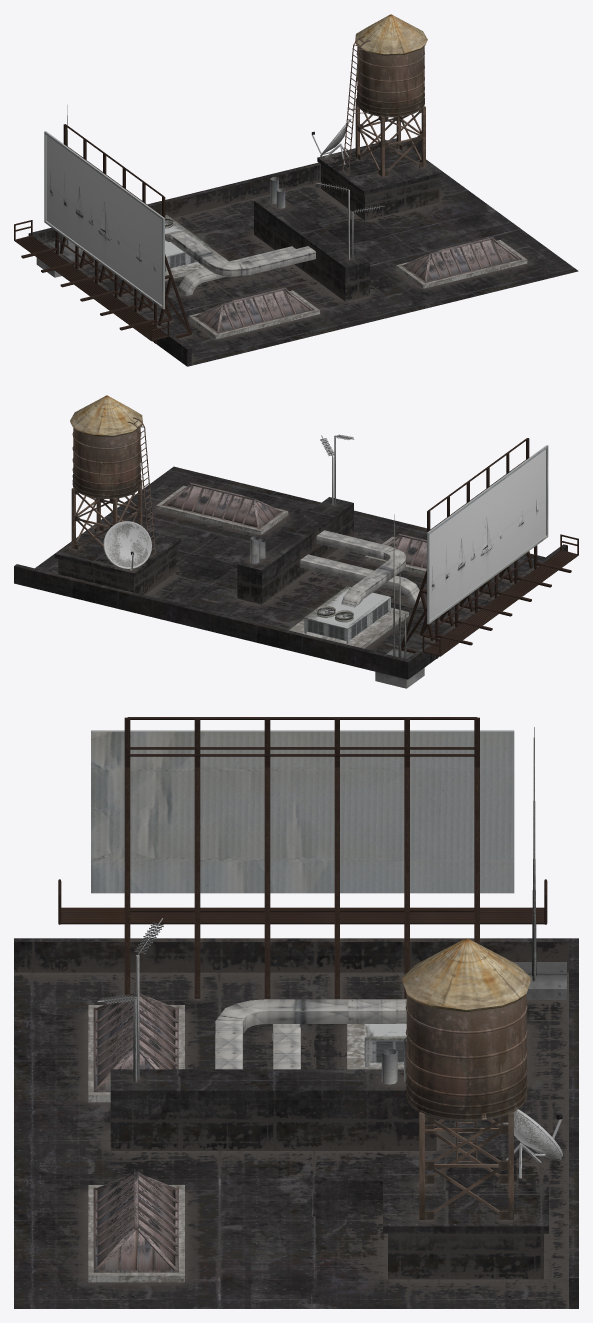
File: roof06.fbx
The picture shows the model from 3 angles, top to bottom: view 1: azimuth 30°, elevation 25°; view 2: azimuth 150°, elevation 25°; view 3: azimuth 270°, elevation 25°; orthographic projection. The views are drawn at different scales.
Parts seen in each view (by area): view 1: Object31, Plane52, Box157, Box158, Circle01, Rectangle59, Box1944, Box1560, Spindle01, O03, Object313, Circle02 (+8 smaller); view 2: Object31, Plane52, Box158, Box157, Circle01, Rectangle59, Box1944, Spindle01, Sphere56, O03, Ob98, Box159 (+17 smaller); view 3: Object31, O03, Box158, Box157, Circle01, Rectangle59, Spindle01, Box1944, Box1560, Object313, Circle02, Box160 (+14 smaller).
Boxes of the visible parts, <box> form: Object31: <box>28,138,578,366</box>; Plane52: <box>46,135,162,304</box>; Box157: <box>317,138,443,220</box>; Box158: <box>254,197,369,301</box>; Circle01: <box>357,46,424,115</box>; Rectangle59: <box>14,124,169,341</box>; Box1944: <box>405,240,516,281</box>; Box1560: <box>197,290,308,331</box>; Spindle01: <box>355,14,427,55</box>; O03: <box>44,131,164,309</box>; Object313: <box>186,243,264,276</box>; Circle02: <box>356,51,424,117</box>; Object31: <box>14,466,567,679</box>; Plane52: <box>429,449,545,620</box>; Box158: <box>237,497,353,604</box>; Box157: <box>54,519,181,594</box>; Circle01: <box>73,427,140,497</box>; Rectangle59: <box>422,438,578,656</box>; Box1944: <box>167,486,279,527</box>; Spindle01: <box>70,395,142,436</box>; Sphere56: <box>103,521,151,569</box>; O03: <box>427,445,548,624</box>; Ob98: <box>304,586,391,628</box>; Box159: <box>289,607,408,648</box>; Object31: <box>14,938,578,1308</box>; O03: <box>91,730,514,893</box>; Box158: <box>110,1069,436,1150</box>; Box157: <box>383,1157,548,1279</box>; Circle01: <box>406,994,526,1119</box>; Rectangle59: <box>58,717,547,924</box>; Spindle01: <box>401,938,531,1012</box>; Box1944: <box>97,1176,175,1270</box>; Box1560: <box>97,996,175,1090</box>; Object313: <box>215,999,348,1033</box>; Circle02: <box>405,1004,527,1121</box>; Box160: <box>88,1185,184,1282</box>.
Bounding box in the file's own units: 23.26 × 9.98 × 15.
